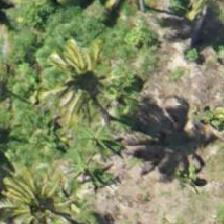coconut_tree: (39, 40, 129, 130), (40, 122, 130, 212), (0, 159, 90, 223)
